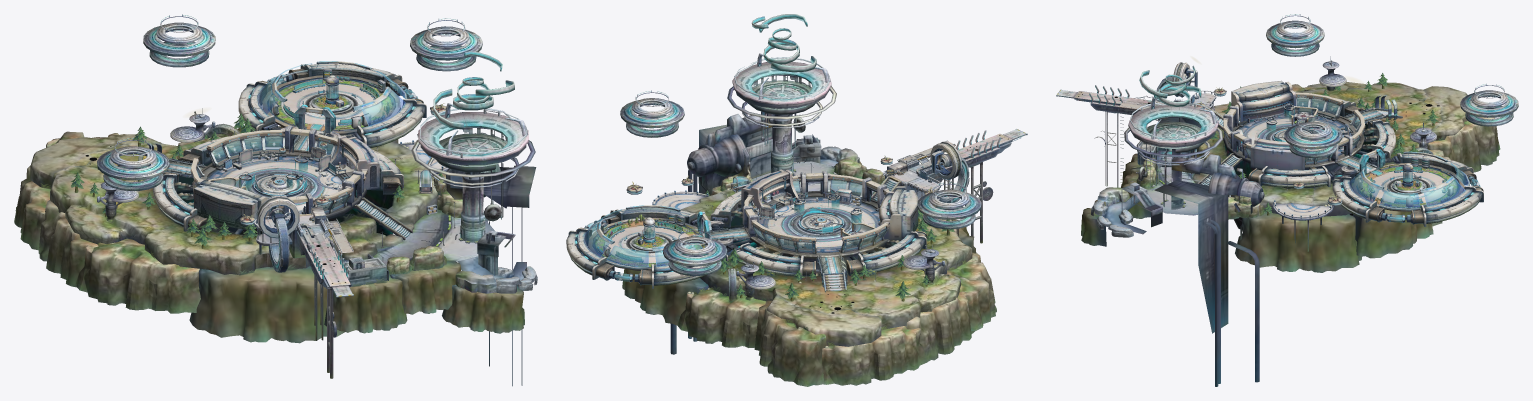
The model's file is febg_eden_001_01.glb.
The picture shows the model from 3 angles, left to right: view 1: azimuth 30°, elevation 25°; view 2: azimuth 150°, elevation 25°; view 3: azimuth 270°, elevation 25°; orthographic projection. The views are drawn at different scales.
Visible parts, largest first — view 1: febg_eden_001_bg_02, febg_eden_001_elevator_01, febg_eden_001_stone_02 (6), febg_eden_001_bg_01, febg_eden_001_stone_07 (2), febg_eden_001_elevator_02, febg_eden_001_inside_machine_05, febg_eden_001_bg_03, febg_eden_001_inside_machine_03, febg_eden_001_stone_02 (8), febg_eden_001_stone_02 (9), febg_eden_001_stone_07 (4) (+22 smaller); view 2: febg_eden_001_bg_02, febg_eden_001_bg_01, febg_eden_001_elevator_01, febg_eden_001_elevator_02, febg_eden_001_stone_07 (1), febg_eden_001_stone_07 (3), febg_eden_001_stone_07, febg_eden_001_inside_machine_05, febg_eden_001_bg_03, febg_eden_001_inside_machine_03, febg_eden_001_stone_07 (4), febg_eden_001_stone_02 (3) (+16 smaller); view 3: febg_eden_001_bg_02, febg_eden_001_elevator_02, febg_eden_001_stone_02 (2), febg_eden_001_elevator_01, febg_eden_001_bg_01, febg_eden_001_inside_machine_05, febg_eden_001_bg_03, febg_eden_001_stone_02 (3), febg_eden_001_stone_07 (3), febg_eden_001_inside_machine_03, febg_eden_001_inside_machine_02, febg_eden_001_addlight_03 (+13 smaller).
Part boxes in pixels (box(x1,y1,x2,y2)): febg_eden_001_bg_02: box(30, 128, 526, 280); febg_eden_001_elevator_01: box(411, 51, 535, 242); febg_eden_001_stone_02 (6): box(189, 266, 344, 343); febg_eden_001_bg_01: box(152, 133, 403, 233); febg_eden_001_stone_07 (2): box(75, 238, 200, 313); febg_eden_001_elevator_02: box(343, 133, 536, 386); febg_eden_001_inside_machine_05: box(238, 64, 426, 147); febg_eden_001_bg_03: box(262, 75, 400, 135); febg_eden_001_inside_machine_03: box(256, 213, 353, 378); febg_eden_001_stone_02 (8): box(324, 275, 407, 333); febg_eden_001_stone_02 (9): box(442, 284, 524, 333); febg_eden_001_stone_07 (4): box(38, 200, 98, 287); febg_eden_001_bg_02: box(680, 159, 972, 346); febg_eden_001_bg_01: box(710, 191, 927, 279); febg_eden_001_elevator_01: box(727, 14, 836, 172); febg_eden_001_elevator_02: box(670, 113, 821, 354); febg_eden_001_stone_07 (1): box(822, 326, 926, 385); febg_eden_001_stone_07 (3): box(754, 300, 829, 386); febg_eden_001_stone_07: box(677, 289, 765, 347); febg_eden_001_inside_machine_05: box(566, 208, 727, 288); febg_eden_001_bg_03: box(588, 217, 707, 270); febg_eden_001_inside_machine_03: box(885, 129, 1027, 245); febg_eden_001_stone_07 (4): box(905, 291, 974, 362); febg_eden_001_stone_02 (3): box(622, 269, 708, 325); febg_eden_001_bg_02: box(1105, 82, 1476, 234); febg_eden_001_elevator_02: box(1121, 142, 1264, 386); febg_eden_001_stone_02 (2): box(1235, 212, 1361, 272); febg_eden_001_elevator_01: box(1124, 65, 1223, 209); febg_eden_001_bg_01: box(1223, 97, 1395, 187); febg_eden_001_inside_machine_05: box(1332, 153, 1483, 226); febg_eden_001_bg_03: box(1352, 163, 1464, 211); febg_eden_001_stone_02 (3): box(1352, 209, 1442, 258); febg_eden_001_stone_07 (3): box(1427, 117, 1500, 172); febg_eden_001_inside_machine_03: box(1056, 89, 1214, 187); febg_eden_001_inside_machine_02: box(1231, 80, 1296, 188); febg_eden_001_addlight_03: box(1348, 160, 1468, 207).
Size of the model in its own units: 181 by 156 by 224.
12 materials, 11 textured.
